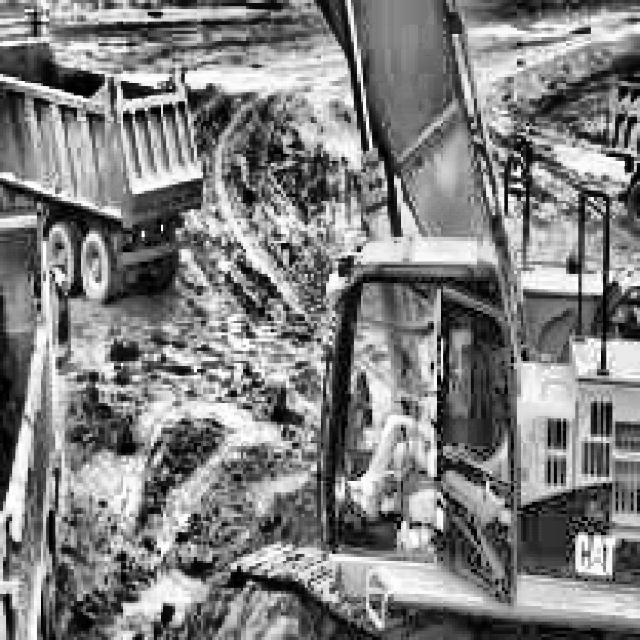dump_truck: (0, 28, 200, 298)
excavator: (0, 0, 640, 640)
